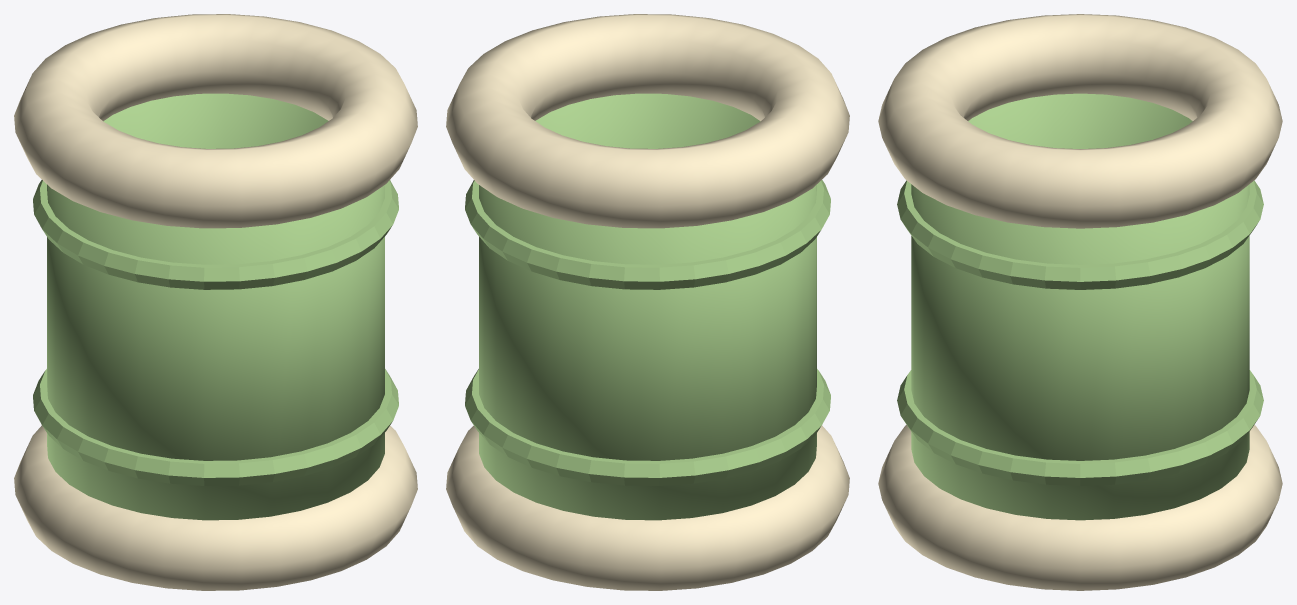
3 renders of one model, left to right at view 1: azimuth 30°, elevation 25°; view 2: azimuth 150°, elevation 25°; view 3: azimuth 270°, elevation 25°, orthographic.
Parts seen in each view (by area): view 1: leg-wraps, Torus.001, Torus, Torus.002, Torus.003; view 2: leg-wraps, Torus.001, Torus, Torus.002, Torus.003; view 3: leg-wraps, Torus.001, Torus, Torus.002, Torus.003.
Boxes of the visible parts, x1,y1,x2,y2 form: leg-wraps: (47, 93, 384, 520); Torus.001: (14, 14, 417, 228); Torus: (14, 425, 417, 590); Torus.002: (33, 369, 398, 485); Torus.003: (33, 180, 398, 289); leg-wraps: (479, 93, 816, 520); Torus.001: (446, 14, 849, 228); Torus: (446, 425, 849, 590); Torus.002: (465, 369, 830, 485); Torus.003: (465, 180, 830, 289); leg-wraps: (911, 93, 1249, 520); Torus.001: (878, 14, 1282, 228); Torus: (878, 425, 1282, 590); Torus.002: (897, 370, 1263, 485); Torus.003: (897, 180, 1263, 289).
Size of the model in its own units: 0.086 by 0.103 by 0.086.
